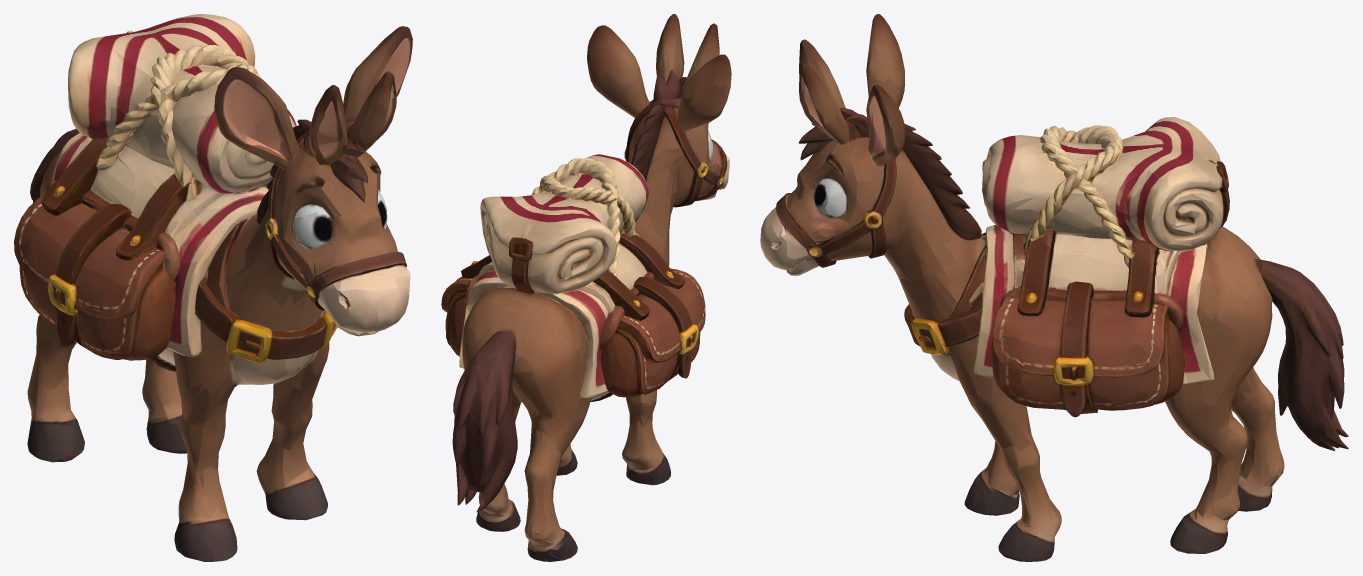
File: mula.glb
3 renders of one model, left to right at view 1: azimuth 30°, elevation 25°; view 2: azimuth 150°, elevation 25°; view 3: azimuth 270°, elevation 25°, orthographic. The views are drawn at different scales.
Size of the model in its own units: 0.992 by 1.69 by 1.9.
Materials: 1 (1 with a texture image).
